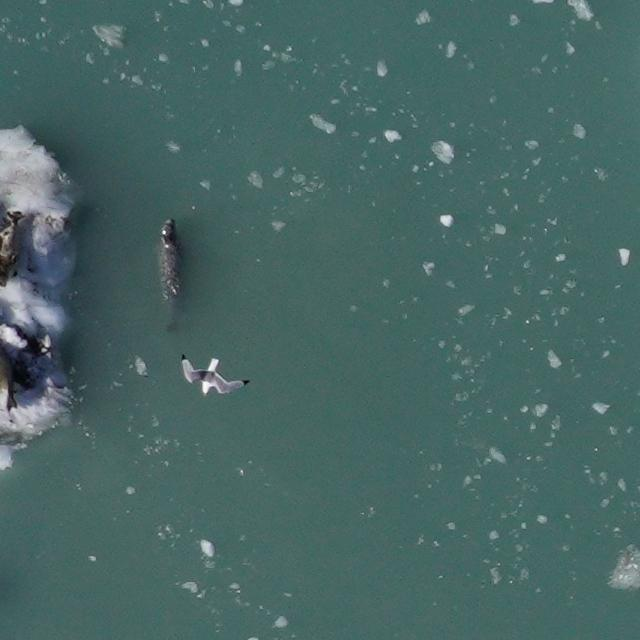seal: (0, 208, 31, 291)
